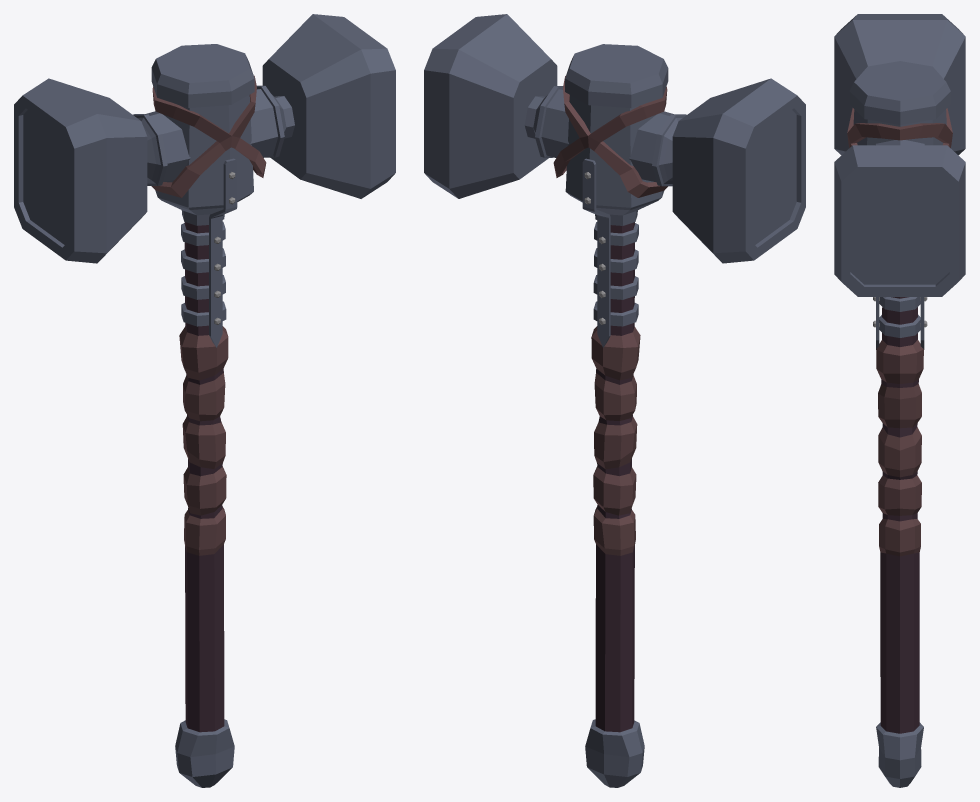
Rendered from Hammer_Double.glb.
3 views of the same model, side by side, from view 1: azimuth 30°, elevation 25°; view 2: azimuth 150°, elevation 25°; view 3: azimuth 270°, elevation 25° (orthographic). The views are drawn at different scales.
Visible parts, largest first — view 1: Hammer_Double_Cylinder.036; view 2: Hammer_Double_Cylinder.036; view 3: Hammer_Double_Cylinder.036.
Part boxes in pixels (x1,y1,x2,y2): Hammer_Double_Cylinder.036: (14,14,395,787); Hammer_Double_Cylinder.036: (424,14,805,787); Hammer_Double_Cylinder.036: (834,14,965,787).
Bounding box in the file's own units: 1.18 × 2.53 × 0.4291.
